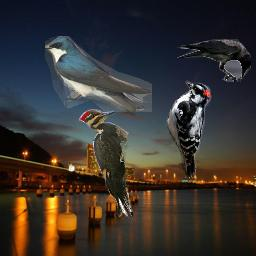Crow: (177, 39, 251, 82)
Swallow: (45, 36, 152, 112)
Woodpecker: (79, 109, 135, 220), (166, 80, 212, 178)
